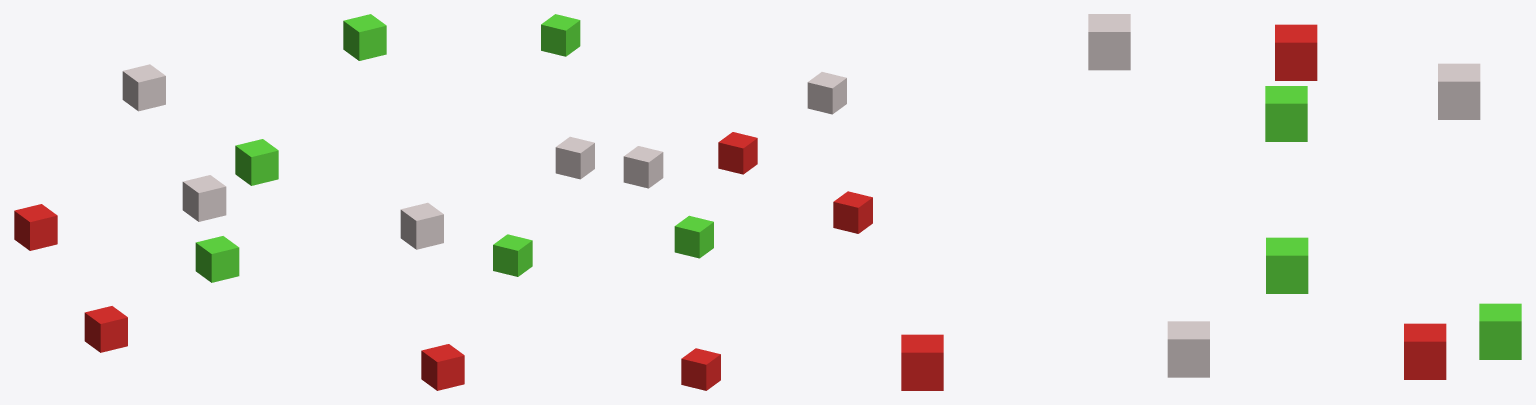
File: TestLevel.glb
3 views of the same model, side by side, from view 1: azimuth 30°, elevation 25°; view 2: azimuth 150°, elevation 25°; view 3: azimuth 270°, elevation 25° (orthographic). The views are drawn at different scales.
Visible parts, largest first — view 1: Cube.002, Cube.004, Cube, Cube.001, Cube.003, Cube.005, Cube.006, Cube.007, Cube.008; view 2: Cube.001, Cube.002, Cube.004, Cube.005, Cube.006, Cube.007, Cube, Cube.008, Cube.003; view 3: Cube, Cube.002, Cube.005, Cube.008, Cube.001, Cube.004, Cube.006, Cube.007, Cube.003.
Part boxes in pixels (x1,y1,x2,y2): Cube.002: (182,175,226,221); Cube.004: (195,236,239,282); Cube: (421,344,464,390); Cube.001: (122,64,165,111); Cube.003: (343,14,386,60); Cube.005: (400,202,443,249); Cube.006: (14,204,57,250); Cube.007: (84,306,127,352); Cube.008: (235,139,278,185); Cube.001: (623,146,663,188); Cube.002: (807,72,846,114); Cube.004: (674,215,713,258); Cube.005: (555,136,594,179); Cube.006: (833,191,872,233); Cube.007: (681,348,720,390); Cube: (718,132,757,174); Cube.008: (493,234,532,276); Cube.003: (541,14,580,56); Cube: (901,334,943,390); Cube.002: (1088,14,1130,70); Cube.005: (1167,321,1209,377); Cube.008: (1479,303,1521,359); Cube.001: (1438,63,1480,119); Cube.004: (1266,237,1308,293); Cube.006: (1275,24,1317,80); Cube.007: (1404,323,1446,379); Cube.003: (1265,86,1307,141).
Bounding box in the file's own units: 40.37 × 31.81 × 43.58.
